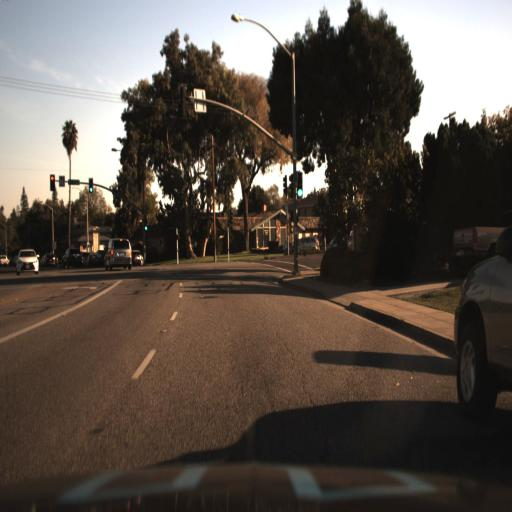car: (453, 232, 512, 429), (7, 239, 44, 283), (12, 235, 42, 286), (283, 230, 318, 262), (57, 239, 87, 275), (104, 236, 132, 274), (291, 233, 325, 252), (86, 241, 105, 274), (61, 244, 85, 269), (131, 244, 145, 266)
trafficLight-Green: (297, 174, 305, 201), (295, 183, 305, 202), (142, 215, 150, 236), (87, 177, 95, 195), (89, 180, 96, 199), (141, 221, 148, 237)
trafficLight-RedLeft: (46, 170, 55, 195), (47, 168, 55, 188)
